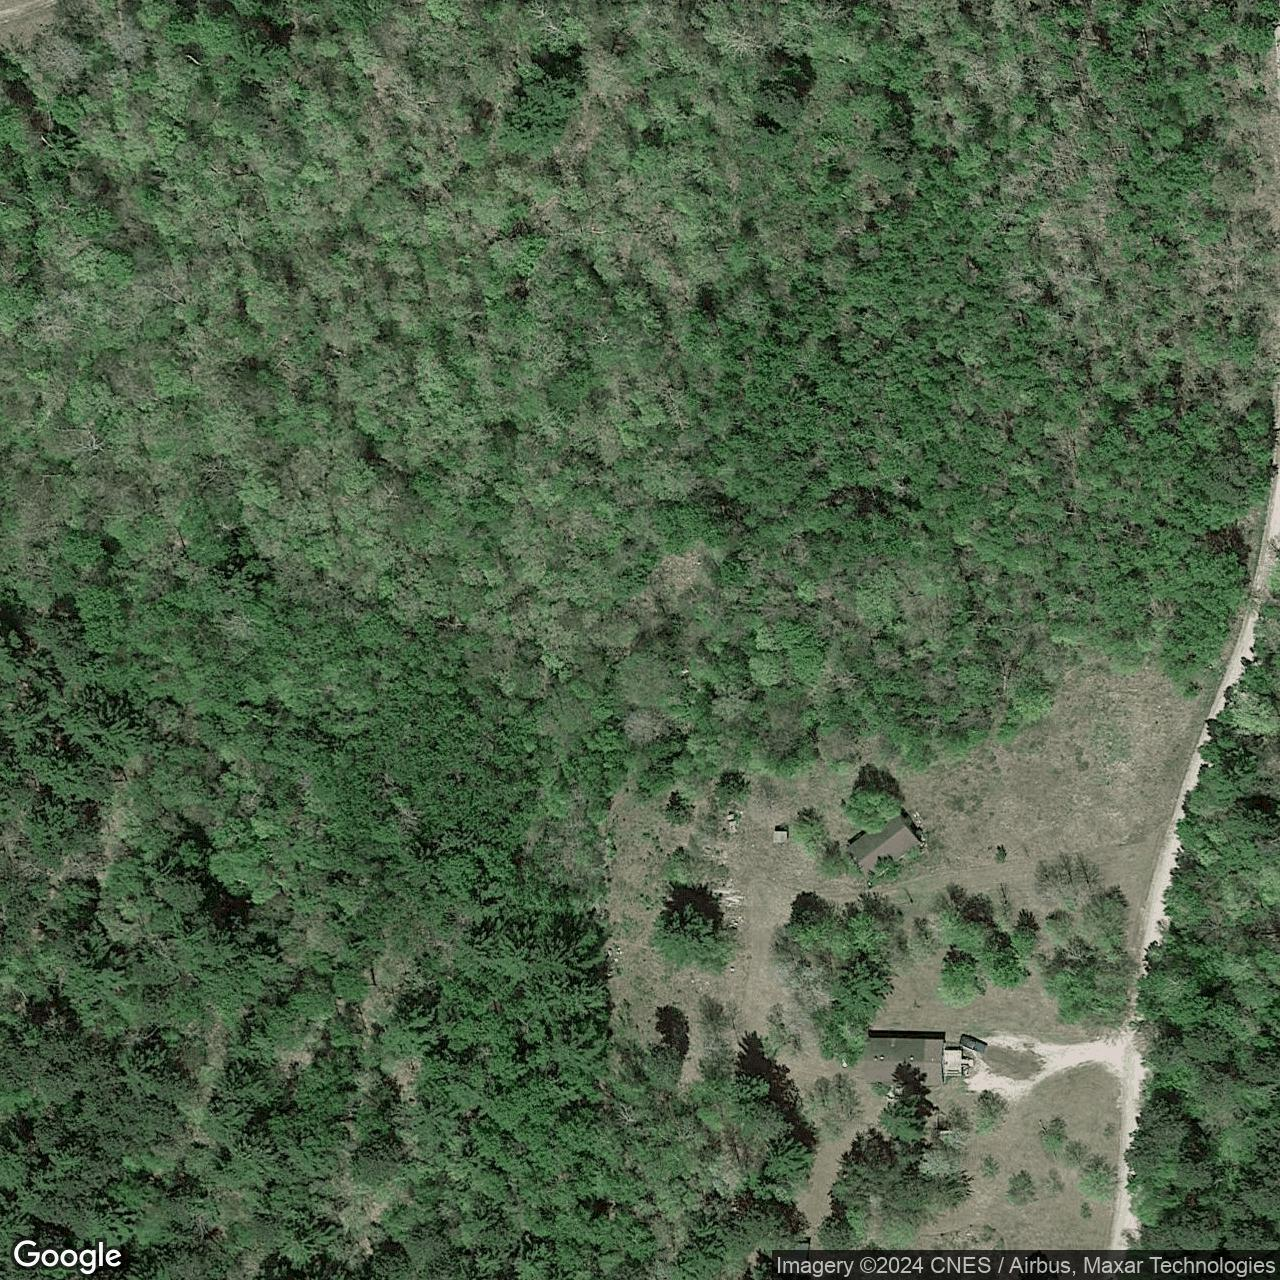Garage: (846, 809, 928, 880)
House: (863, 1035, 946, 1085)
